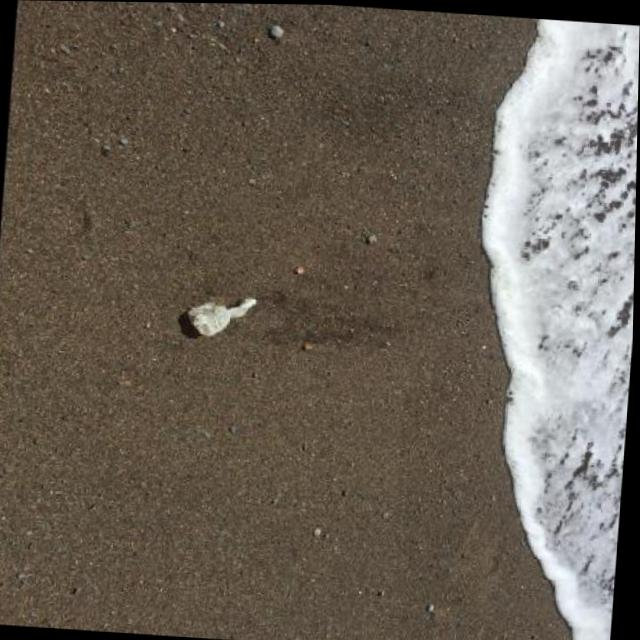plastic: (185, 295, 256, 339)
